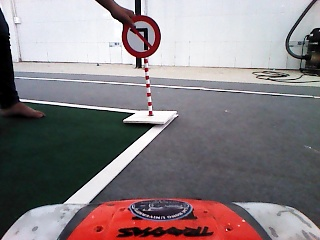ban_left: (122, 16, 161, 58)
